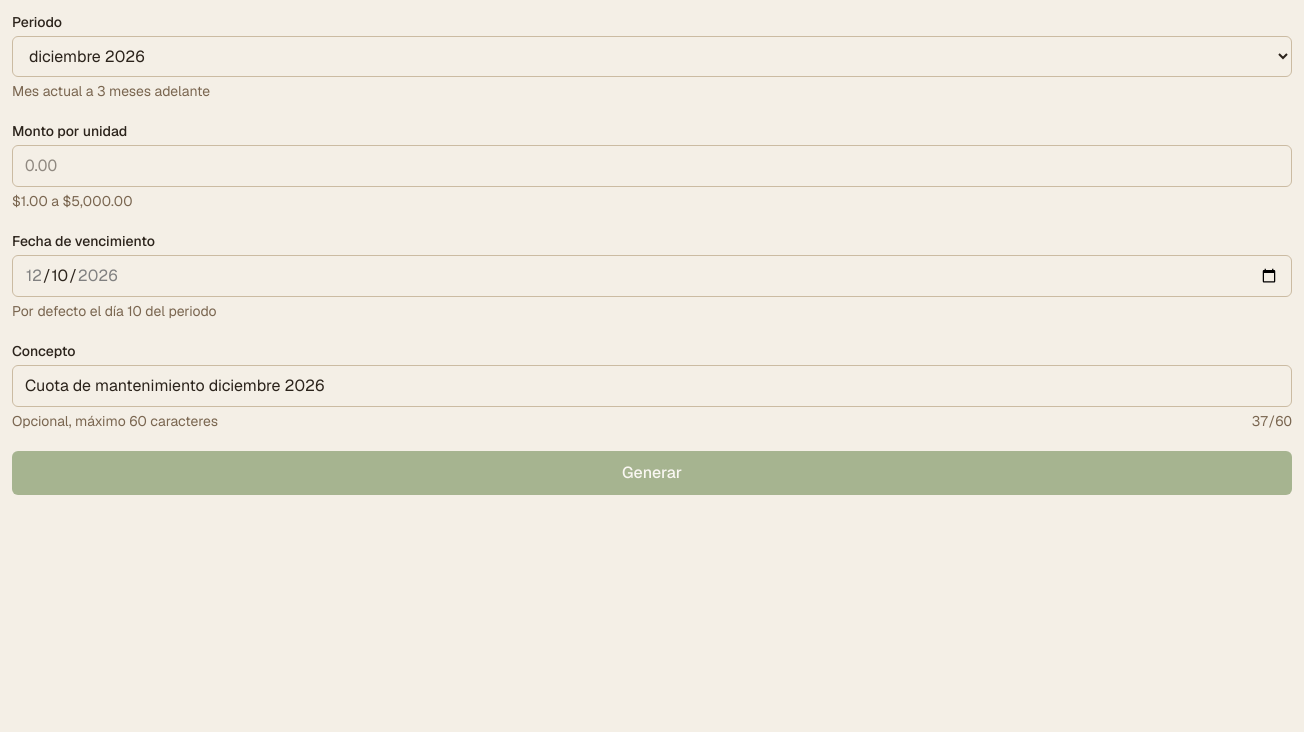
Scenario: H3. Generación mensual de cuotas › AC2: si todas las unidades activas ya tienen cuota avisa sin pedir confirmación
The image size is (1304, 732).
In the number field labelled "Monto por unidad": (652, 166) x1=12 y1=145 x2=1292 y2=187, type "35.5"
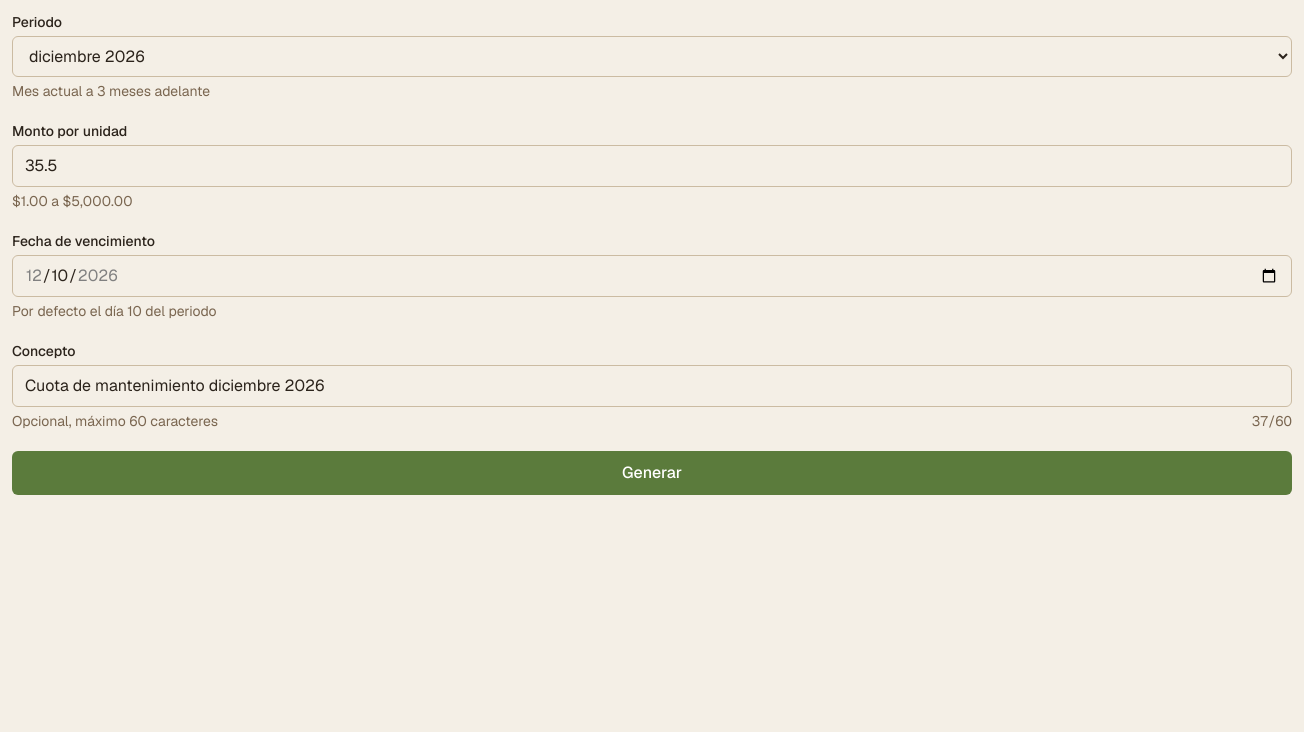
Click the button "Generar": (652, 473) x1=12 y1=451 x2=1292 y2=495
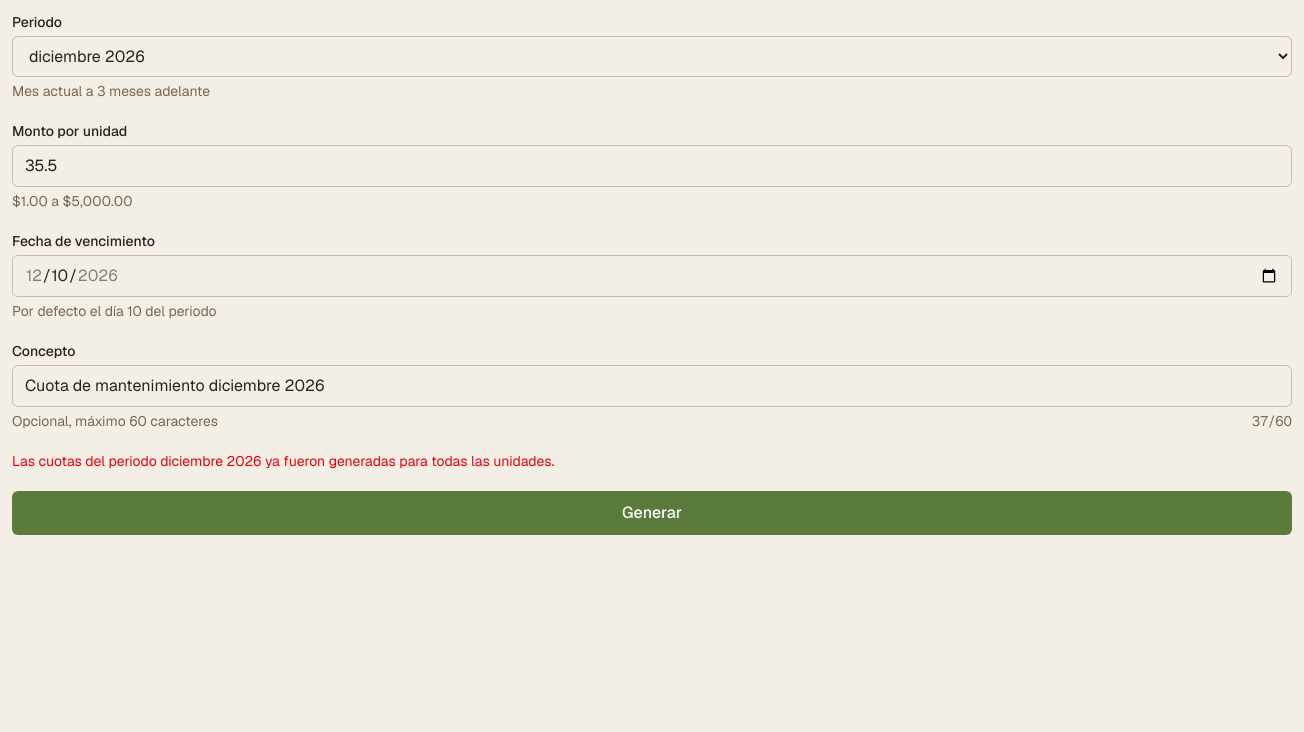
Expected: the text "Las cuotas del periodo diciembre 2026 ya fueron generadas para todas las unidades." is shown, x1=12 y1=452 x2=554 y2=470
